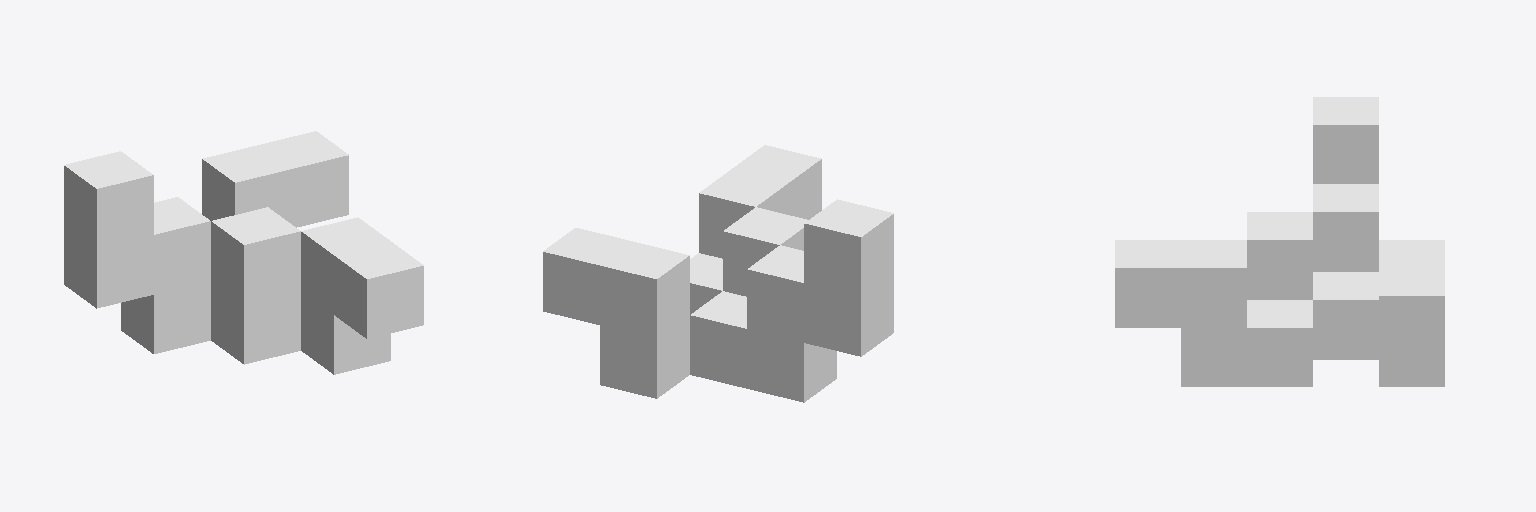
File: pineapplesmall 1.obj
3 renders of one model, left to right at view 1: azimuth 30°, elevation 25°; view 2: azimuth 150°, elevation 25°; view 3: azimuth 270°, elevation 25°, orthographic.
Visible parts, largest first — view 1: object 1; view 2: object 1; view 3: object 1.
Part boxes in pixels (left/top/right/bottom): object 1: left=64, top=131, right=423, bottom=374; object 1: left=543, top=145, right=893, bottom=402; object 1: left=1115, top=97, right=1444, bottom=386.
Size of the model in its own units: 0.5 by 0.3 by 0.5.